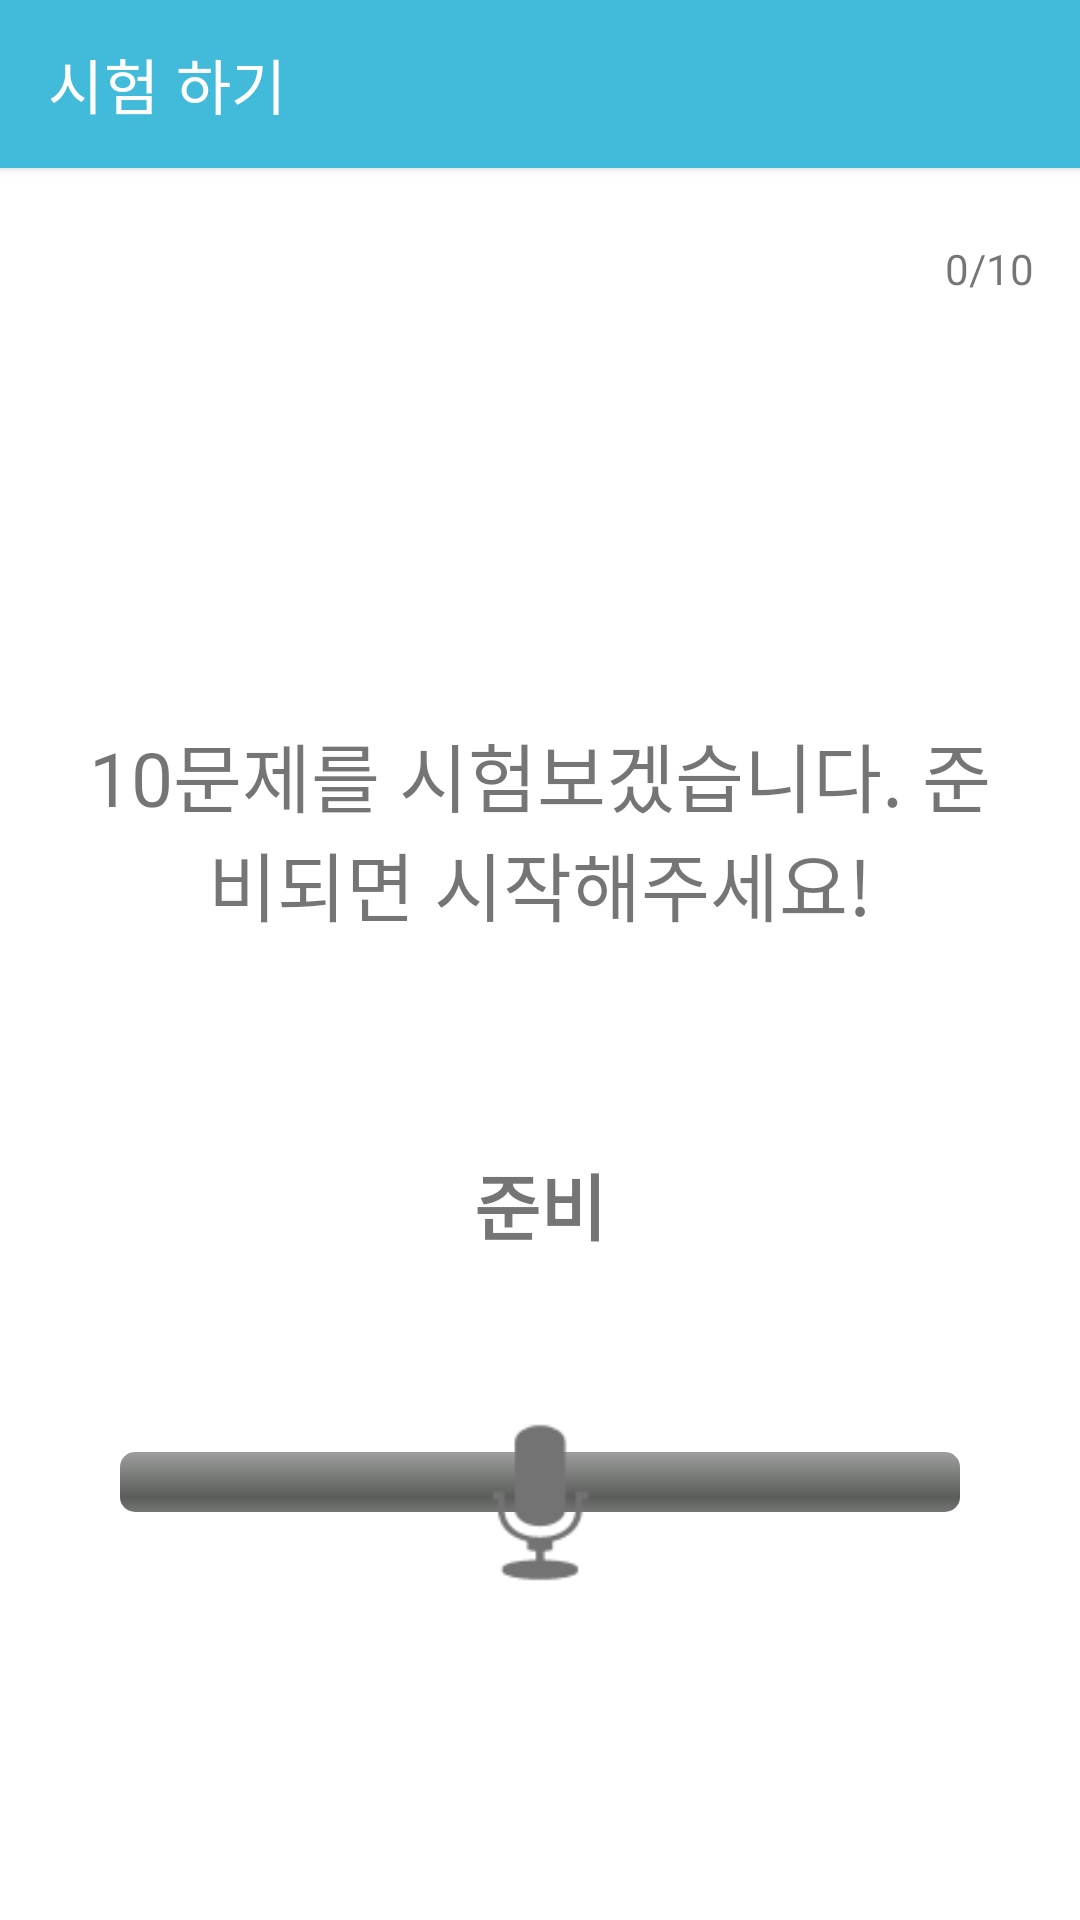

Icons on this 1080w x 1920h Android screen, each with its box as BBox(x1, y1, x2, y2):
speak now: BBox(398, 1424, 683, 1581)
